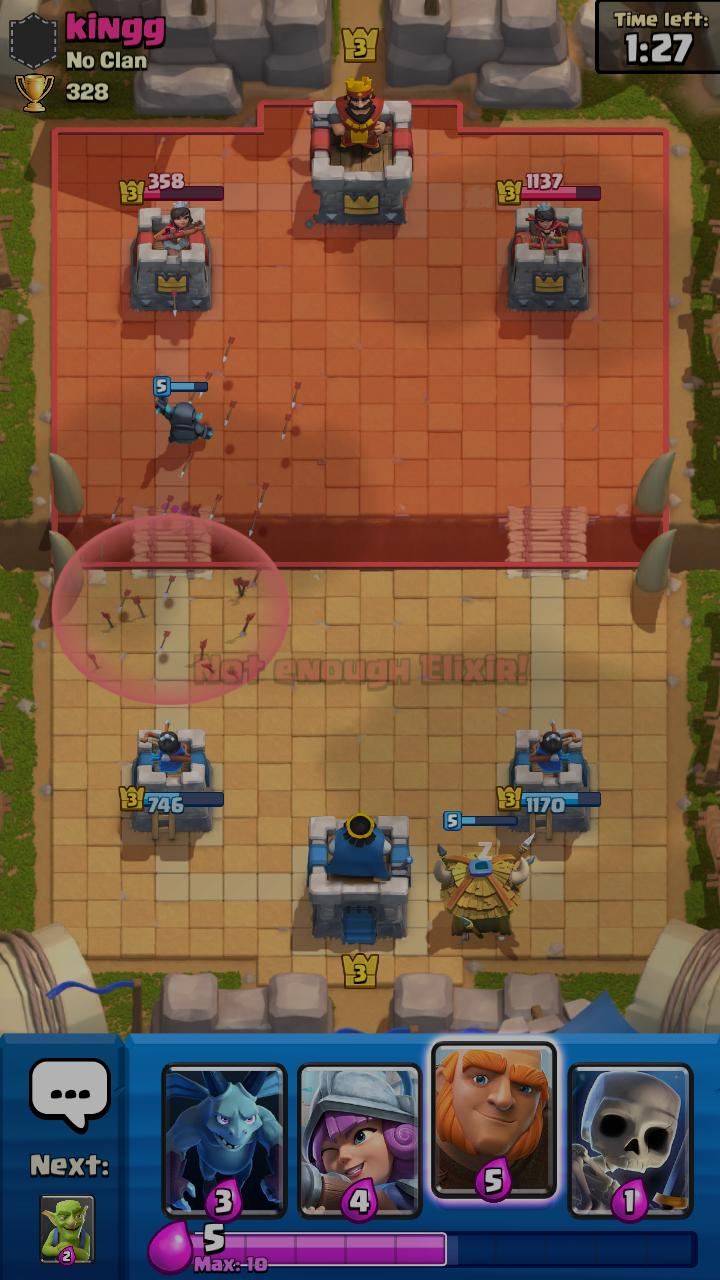ally: (433, 810, 535, 941), (153, 375, 213, 444)
